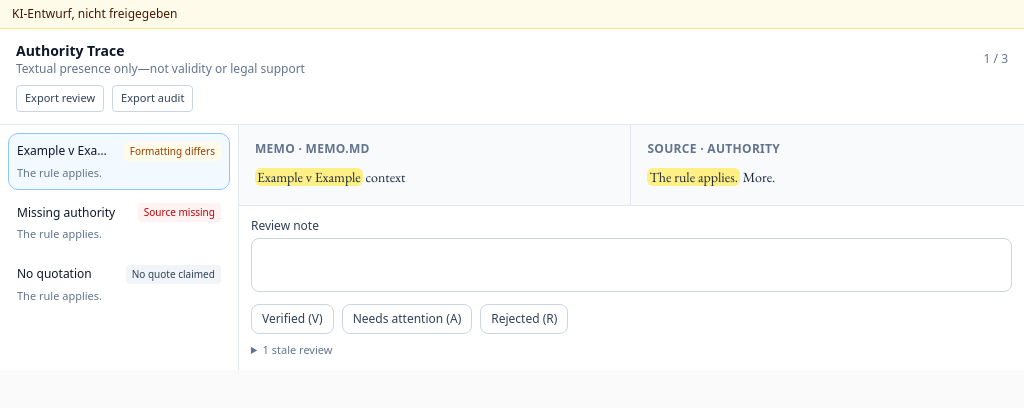
AuthorityTracePanel › keeps a changed citation's former verdict visible as stale history
Click the heading "1 stale review". click: (298, 349)
box: x1=263 y1=342 x2=332 y2=356
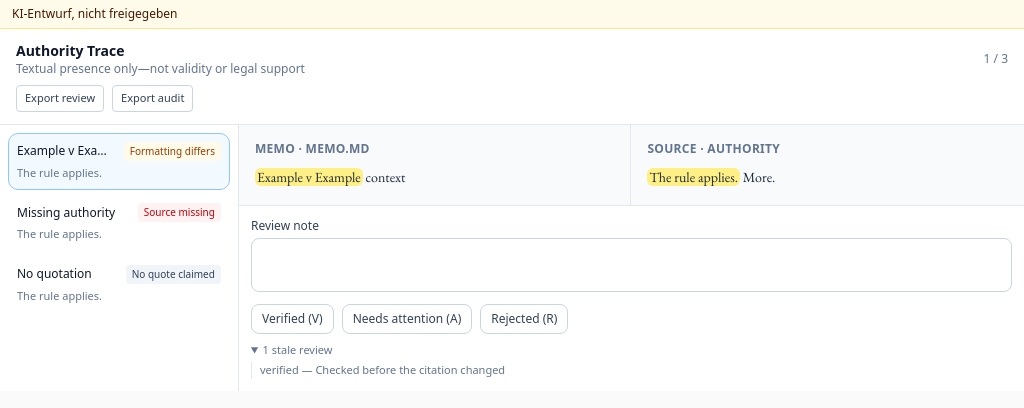
Expected: the list item "verified — Checked before the citation changed" is shown, x1=260 y1=362 x2=505 y2=377
